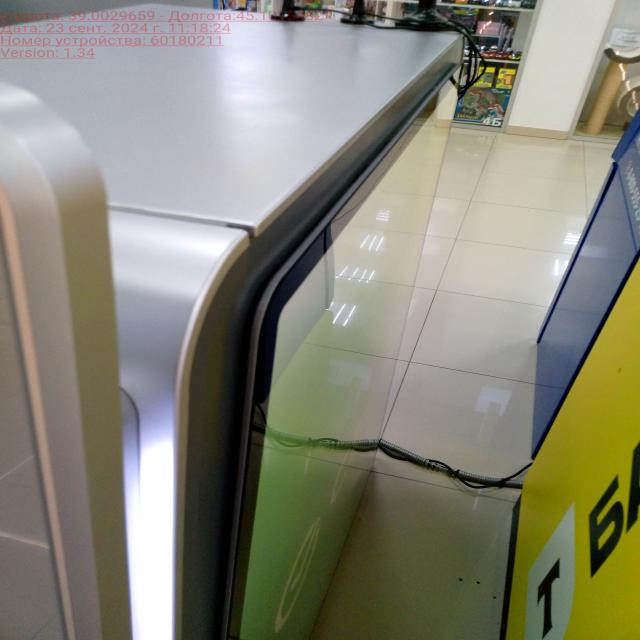bank: (0, 5, 470, 640)
